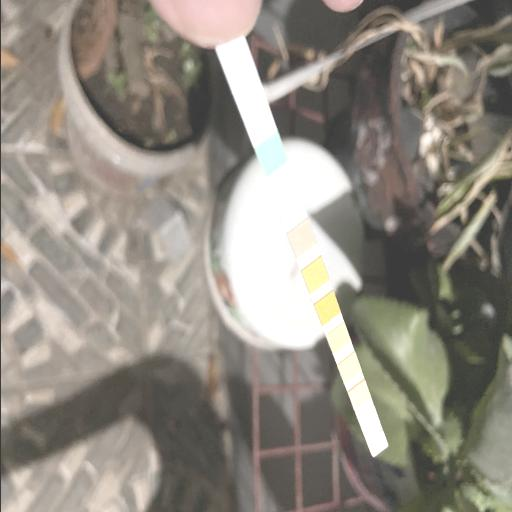Bilirubin: (278, 188, 296, 212)
Blood: (319, 300, 335, 318)
Glucose: (262, 143, 280, 169)
Ketone: (292, 229, 310, 250)
Leukocytes: (370, 436, 384, 450)
Nitrite: (362, 412, 374, 430)
Protein: (342, 362, 356, 376)
SpGravity: (306, 266, 322, 286)
Urobilinogen: (353, 388, 366, 402)
pH: (332, 330, 346, 348)
strip: (218, 41, 388, 458)
